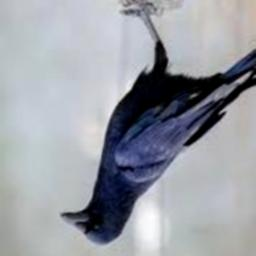Crow: (61, 0, 256, 246)
